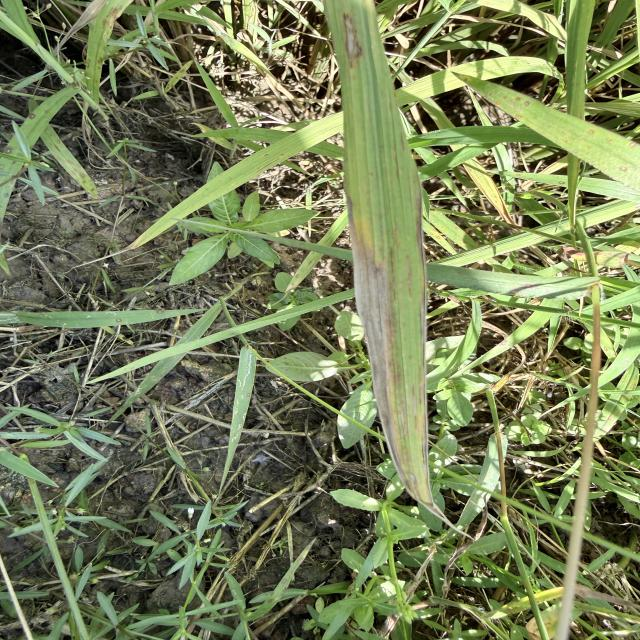Chay bia la: (346, 196, 476, 540)
